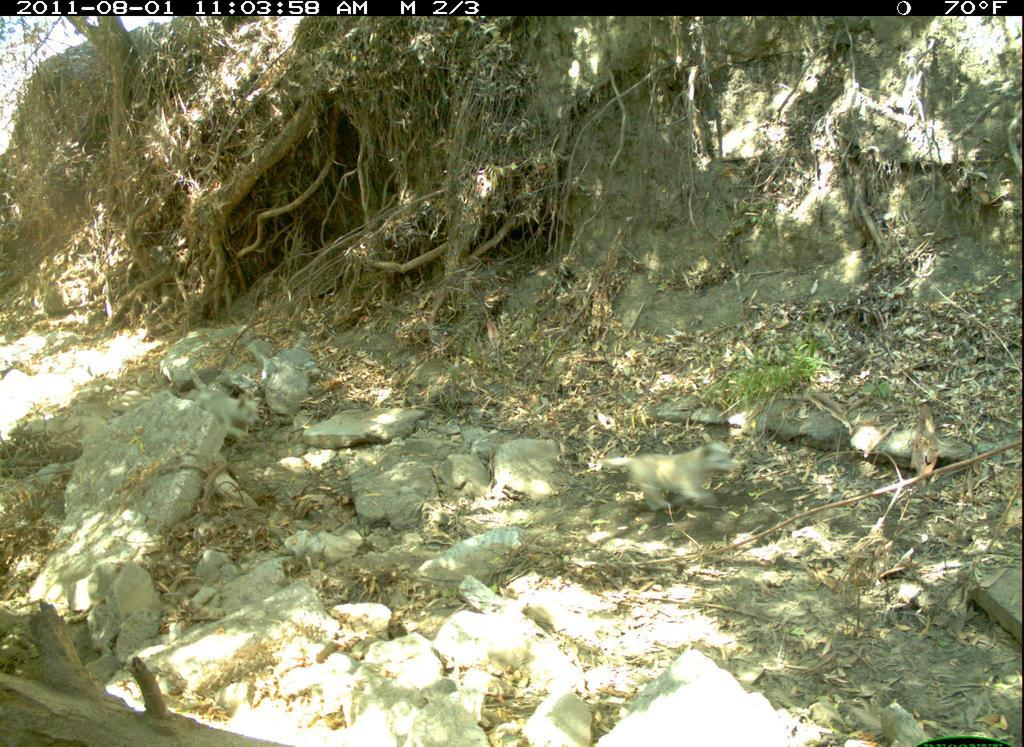dog: (580, 433, 747, 525)
